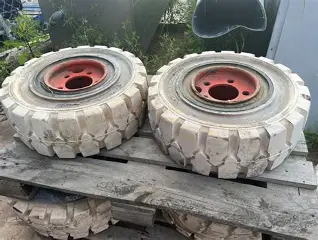ROAD_OBSTACLE: (147, 50, 310, 180), (0, 45, 148, 155)
